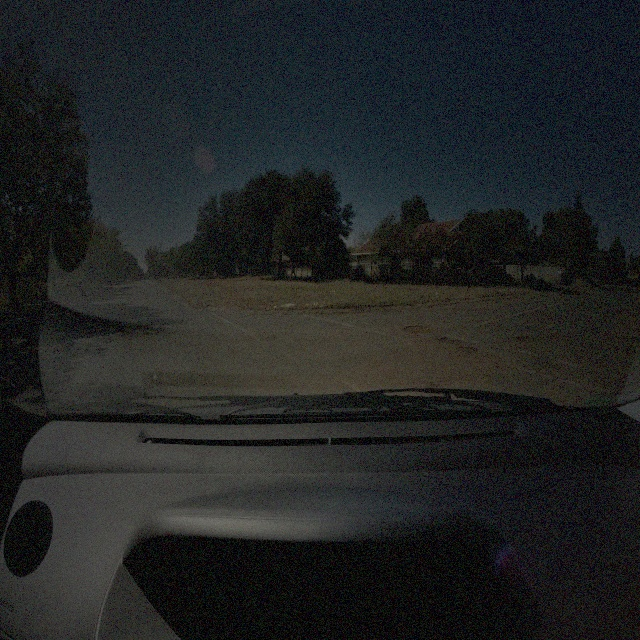pothole: (401, 323, 432, 337), (436, 336, 460, 347), (459, 345, 478, 358), (513, 335, 536, 345), (549, 333, 562, 342)
